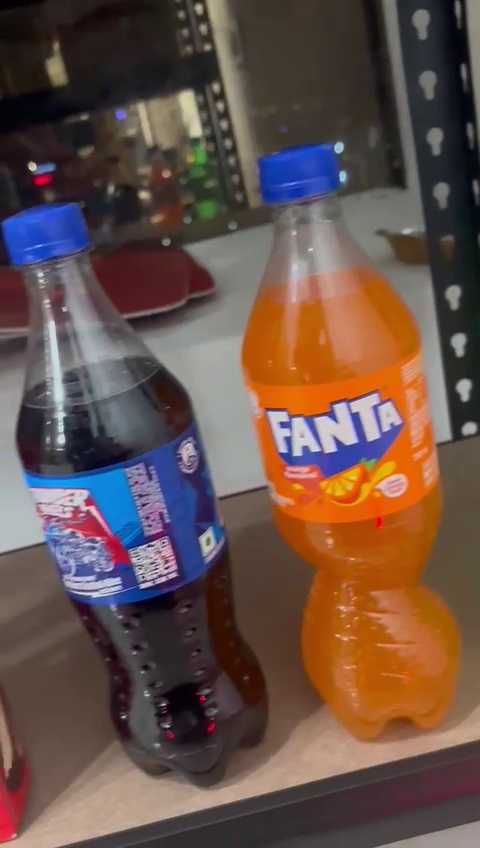Fanta: (236, 140, 473, 748)
Thums-up: (3, 206, 278, 783)
